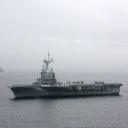Portanaves: (7, 48, 125, 100)
